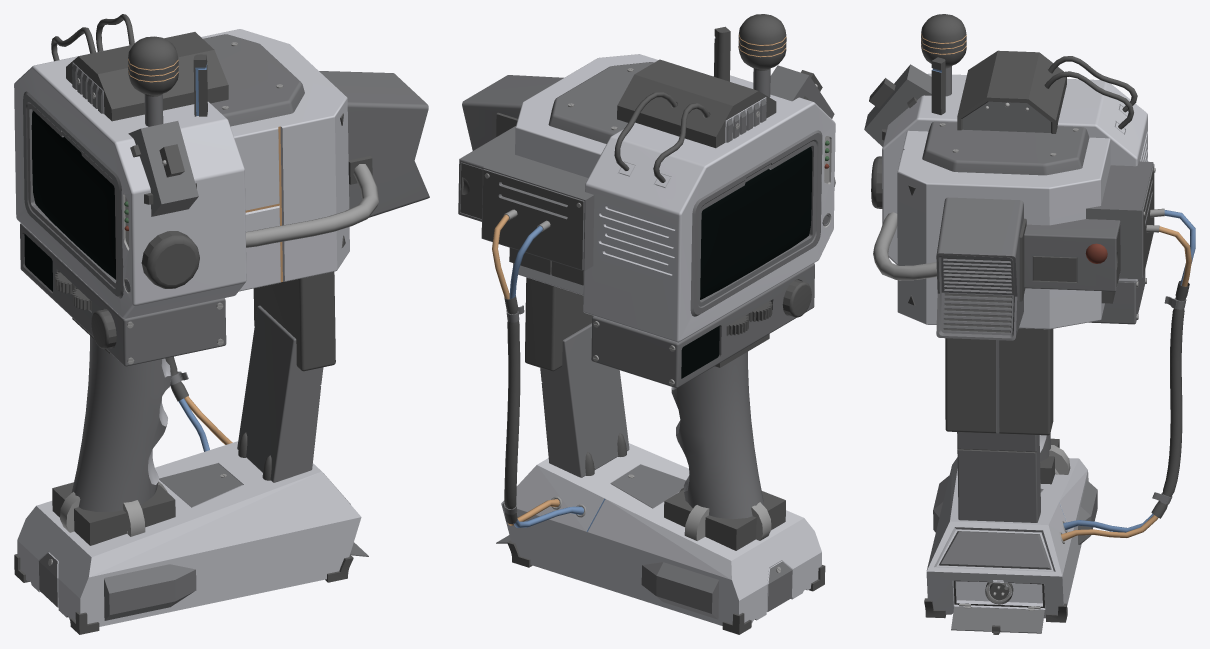
The model's file is Tracker.fbx.
3 renders of one model, left to right at view 1: azimuth 30°, elevation 25°; view 2: azimuth 150°, elevation 25°; view 3: azimuth 270°, elevation 25°, orthographic. The views are drawn at different scales.
Visible parts, largest first — view 1: Tracker:polySurface50, Tracker:polySurface24, Tracker:pCube11, Tracker:polySurface33, Tracker:pCube8, Tracker:polySurface32, Tracker:polySurface11, Tracker:Tracker_0013:pCube27, Tracker:polySurface19, Tracker:pCube15, Tracker:pCube7, Tracker:Tracker_0013:polySurface21 (+10 smaller); view 2: Tracker:polySurface24, Tracker:polySurface50, Tracker:polySurface33, Tracker:Tracker_0013:pCube27, Tracker:polySurface27, Tracker:pCube8, Tracker:polySurface11, Tracker:polySurface19, Tracker:pCube11, Tracker:Tracker_0013:polySurface21, Tracker:pCube15, Tracker:pCube7 (+16 smaller); view 3: Tracker:pCube11, Tracker:polySurface50, Tracker:polySurface32, Tracker:pCube7, Tracker:polySurface24, Tracker:polySurface19, Tracker:pCube8, Tracker:pCube15, Tracker:polySurface53, Tracker:polySurface27, Tracker:polySurface28, Tracker:polySurface52 (+11 smaller).
Part boxes in pixels (bbox=[...]): Tracker:polySurface50: bbox=[17, 441, 361, 626]; Tracker:polySurface24: bbox=[14, 46, 246, 318]; Tracker:pCube11: bbox=[201, 29, 349, 291]; Tracker:polySurface33: bbox=[71, 336, 171, 511]; Tracker:pCube8: bbox=[237, 305, 323, 482]; Tracker:polySurface32: bbox=[319, 71, 429, 217]; Tracker:polySurface11: bbox=[20, 223, 226, 366]; Tracker:Tracker_0013:pCube27: bbox=[31, 110, 115, 279]; Tracker:polySurface19: bbox=[66, 32, 228, 121]; Tracker:pCube15: bbox=[203, 34, 304, 126]; Tracker:pCube7: bbox=[253, 271, 335, 371]; Tracker:Tracker_0013:polySurface21: bbox=[23, 91, 123, 298]; Tracker:polySurface24: bbox=[583, 75, 835, 342]; Tracker:polySurface50: bbox=[501, 443, 821, 625]; Tracker:polySurface33: bbox=[671, 351, 763, 519]; Tracker:Tracker_0013:pCube27: bbox=[700, 146, 812, 299]; Tracker:polySurface27: bbox=[481, 149, 594, 271]; Tracker:pCube8: bbox=[540, 323, 629, 477]; Tracker:polySurface11: bbox=[591, 263, 814, 388]; Tracker:polySurface19: bbox=[617, 59, 776, 148]; Tracker:pCube11: bbox=[513, 54, 658, 295]; Tracker:Tracker_0013:polySurface21: bbox=[690, 130, 822, 316]; Tracker:pCube15: bbox=[548, 62, 653, 143]; Tracker:pCube7: bbox=[525, 277, 593, 371]; Tracker:pCube11: bbox=[897, 130, 1110, 329]; Tracker:polySurface50: bbox=[926, 457, 1088, 618]; Tracker:polySurface32: bbox=[936, 197, 1026, 340]; Tracker:pCube7: bbox=[945, 328, 1053, 435]; Tracker:polySurface24: bbox=[882, 73, 1147, 282]; Tracker:polySurface19: bbox=[957, 50, 1066, 133]; Tracker:pCube8: bbox=[957, 432, 1040, 522]; Tracker:pCube15: bbox=[922, 121, 1089, 175]; Tracker:polySurface53: bbox=[1024, 219, 1120, 291]; Tracker:polySurface27: bbox=[1086, 161, 1154, 279]; Tracker:polySurface28: bbox=[1151, 280, 1189, 518]; Tracker:polySurface52: bbox=[951, 606, 1044, 633].
Size of the model in its own units: 3.28 by 5.19 by 2.98.
